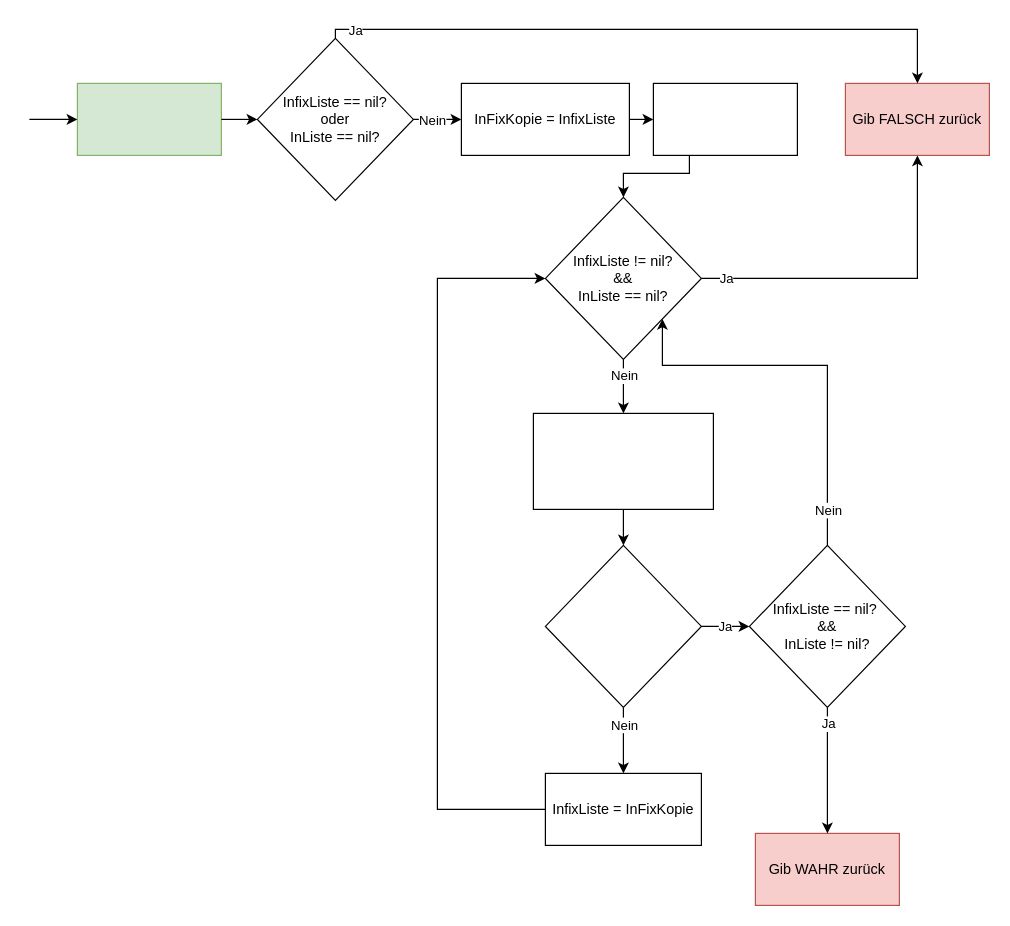
Some shapes in this 1010 by 926 pixel diagram are drawn without their labels. Each missing label, with the centre of its shape:
"Entferne das erste Element aus InListe" goes at pixel 724 118.
"infix: Input: InfixListe, InListe" goes at pixel 148 118.
"sind beide Elemente gleich" goes at pixel 622 625.
"Wähle das erste Element aus InFixListe und InListe und lösche es daraus" goes at pixel 622 460.
